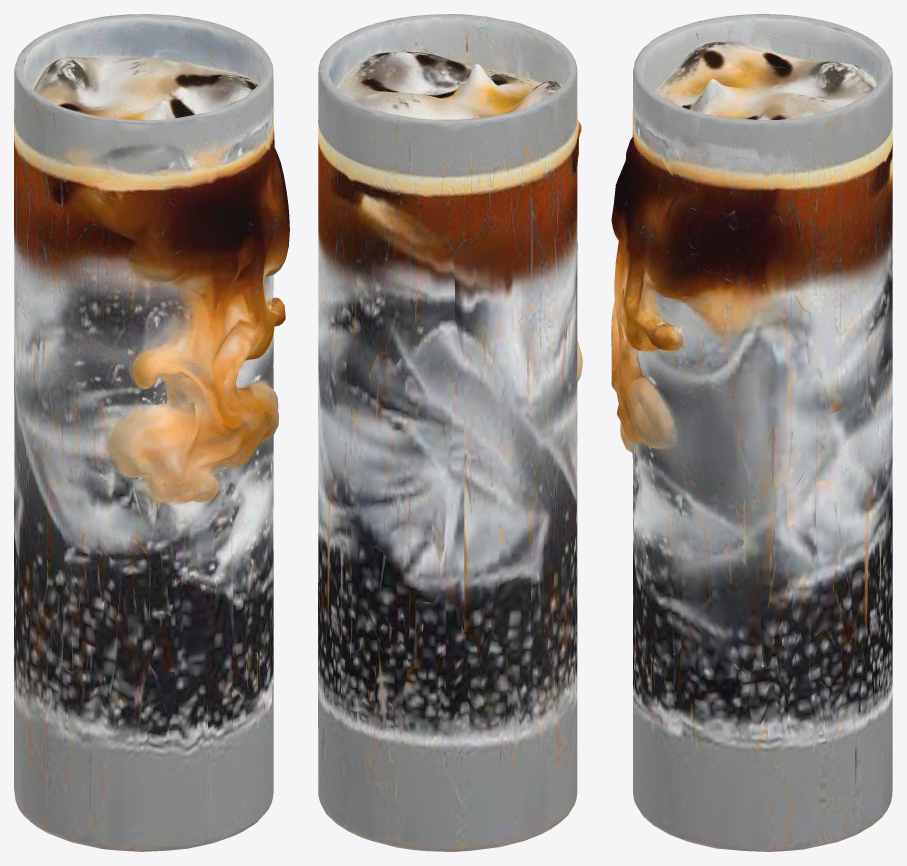
Rendered from low-tide-lite.glb.
The picture shows the model from 3 angles, left to right: view 1: azimuth 30°, elevation 25°; view 2: azimuth 150°, elevation 25°; view 3: azimuth 270°, elevation 25°; orthographic projection.
Parts seen in each view (by area): view 1: Mesh_0; view 2: Mesh_0; view 3: Mesh_0.
Boxes of the visible parts, x1,y1,x2,y2 form: Mesh_0: (14, 14, 289, 851); Mesh_0: (318, 14, 582, 851); Mesh_0: (611, 14, 892, 851).
Bounding box in the file's own units: 0.6108 × 1.9 × 0.6602.
Materials: 1 (1 with a texture image).
